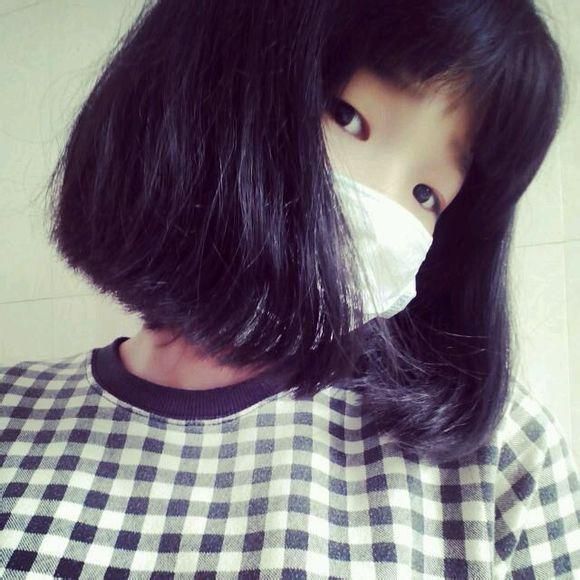OK: (198, 56, 478, 336)
